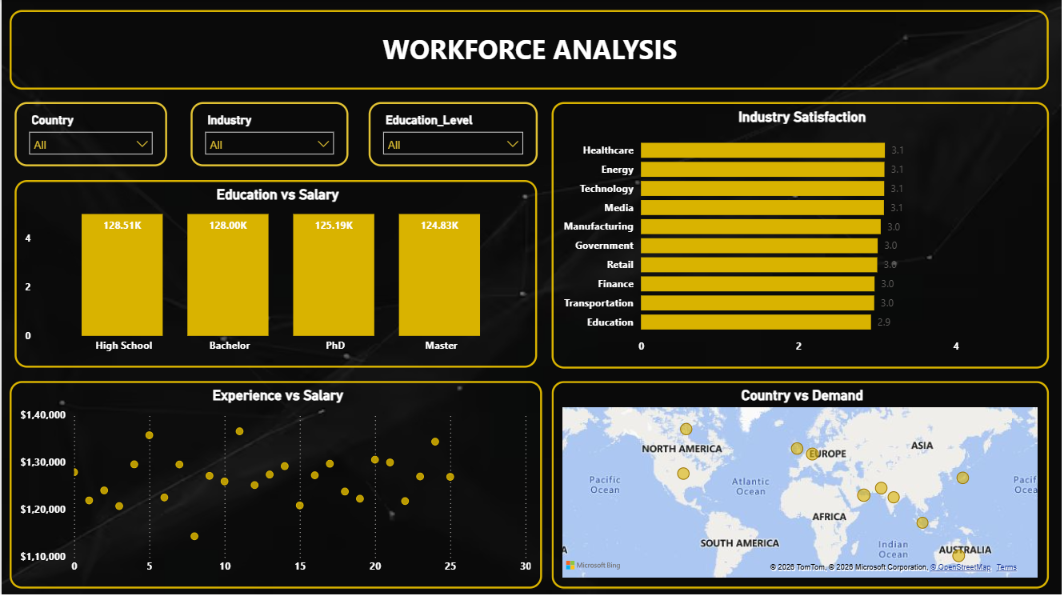

What the dashboard file says about the page in this screenshot:
{"tool":"powerbi","page":{"name":"Workforce Analysis","canvas":[1280,720],"ordinal":1},"visuals":[{"type":"textbox","box":[10,12.5,1253.8,96.2],"z":0},{"type":"scatterChart","title":"Experience vs Salary","fields":{"X":["AI_Impact_on_Jobs_2030.Years_Experience"],"Y":["Avg(AI_Impact_on_Jobs_2030.Average Annual Salary (USD))"]},"box":[10,460,642.5,250],"z":1000},{"type":"columnChart","title":" Education vs Salary","fields":{"Category":["AI_Impact_on_Jobs_2030.Education_Level"],"Y":["AI_Impact_on_Jobs_2030.Average Salary"]},"box":[16.2,217.5,630,226.2],"z":2000},{"type":"map","title":"Country vs Demand ","fields":{"Category":["AI_Impact_on_Jobs_2030.Country"],"Size":["CountNonNull(AI_Impact_on_Jobs_2030.Future Demand Category)"]},"box":[663.8,460,600,250],"z":3000},{"type":"clusteredBarChart","title":" Industry Satisfaction","fields":{"Category":["AI_Impact_on_Jobs_2030.Industry"],"Y":["AI_Impact_on_Jobs_2030.Average Satisfaction"]},"box":[663.8,122.5,600,321.2],"z":4000},{"type":"slicer","fields":{"Values":["AI_Impact_on_Jobs_2030.Country"]},"box":[16.2,122.5,183.8,77.5],"z":5000},{"type":"slicer","fields":{"Values":["AI_Impact_on_Jobs_2030.Education_Level"]},"box":[442.5,122.5,203.8,77.5],"z":6000},{"type":"slicer","fields":{"Values":["AI_Impact_on_Jobs_2030.Industry"]},"box":[227.5,122.5,190,77.5],"z":7000}]}

Visuals, with their boxes in screenshot pixels (x1, y1, x2, y2), scaled from the page's 1280x720 canvas onto the 1062x595 screenshot:
textbox: <box>8,10,1049,90</box>
"Experience vs Salary" scatterChart: <box>8,380,541,587</box>
" Education vs Salary" columnChart: <box>13,180,536,367</box>
"Country vs Demand " map: <box>551,380,1049,587</box>
" Industry Satisfaction" clusteredBarChart: <box>551,101,1049,367</box>
slicer - AI_Impact_on_Jobs_2030.Country: <box>13,101,166,165</box>
slicer - AI_Impact_on_Jobs_2030.Education_Level: <box>367,101,536,165</box>
slicer - AI_Impact_on_Jobs_2030.Industry: <box>189,101,346,165</box>
